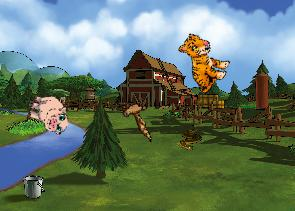eagle: (108, 90, 166, 142)
pig: (23, 89, 73, 137)
tiger: (166, 29, 236, 97)
